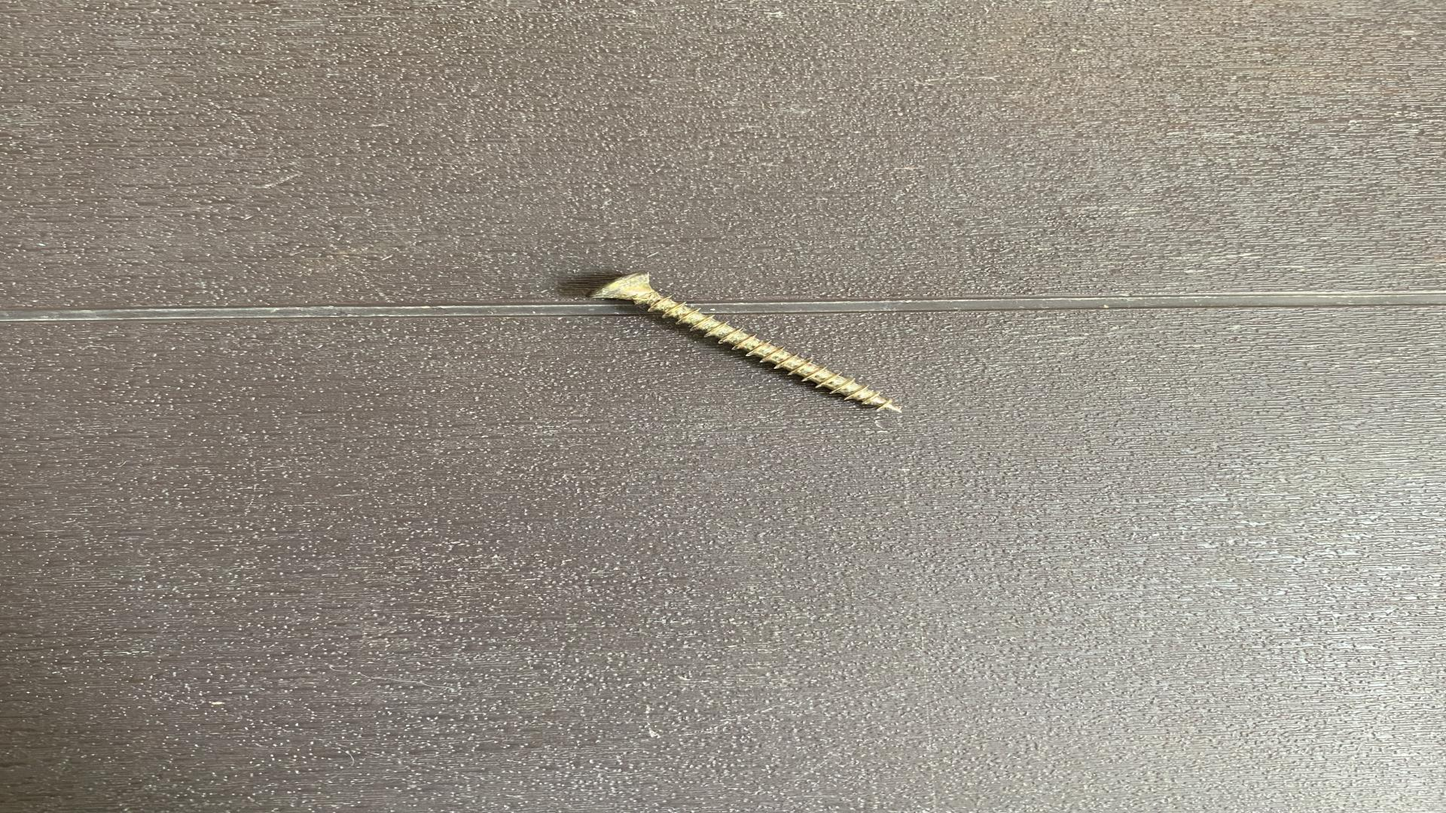screw: (526, 271, 961, 421)
